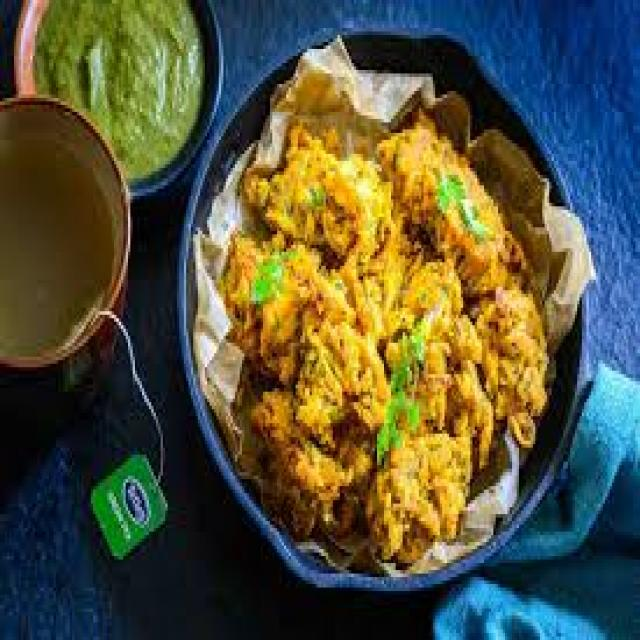BAJI: (219, 102, 560, 559)
